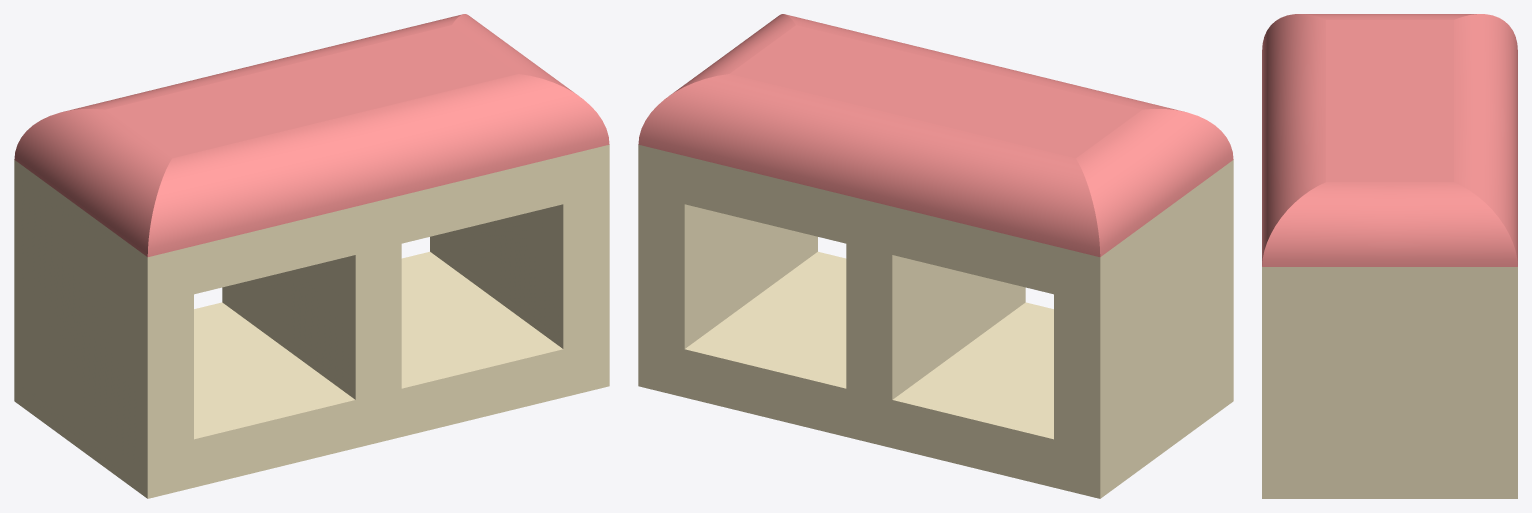
Rendered from Sargento_tapicería.glb.
3 views of the same model, side by side, from view 1: azimuth 30°, elevation 25°; view 2: azimuth 150°, elevation 25°; view 3: azimuth 270°, elevation 25° (orthographic). The views are drawn at different scales.
Visible parts, largest first — view 1: Cojín, Costado (×3), Tapa (×2); view 2: Cojín, Costado (×3), Tapa (×2); view 3: Cojín, Costado, Tapa (×2).
Boxes of the visible parts, x1,y1,x2,y2 form: Cojín: (14, 14, 609, 257); Costado (×3): (14, 169, 609, 474); Tapa (×2): (14, 144, 609, 498); Cojín: (638, 14, 1233, 257); Costado (×3): (638, 169, 1233, 474); Tapa (×2): (638, 144, 1233, 498); Cojín: (1262, 14, 1517, 266); Costado: (1262, 290, 1517, 475); Tapa (×2): (1262, 267, 1517, 498).
Size of the model in its own units: 0.2 by 0.125 by 0.1.
